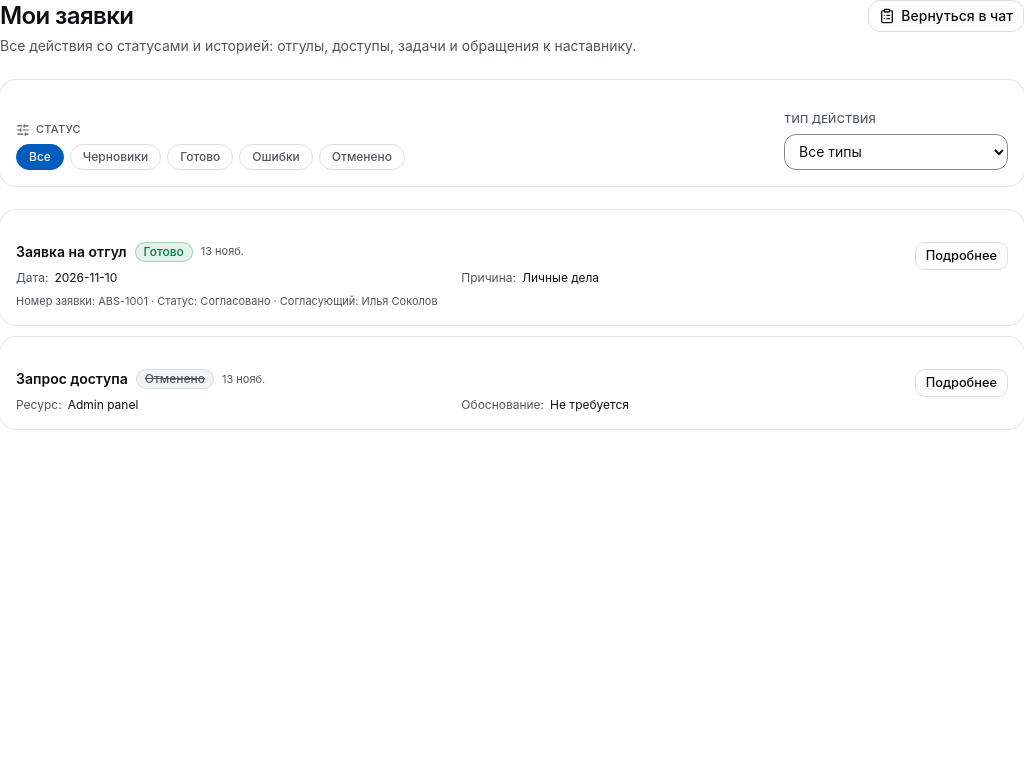
страница заявок › открывает детали с историей статусов
expect the heading "Заявка на отгул" is shown: met, box x1=16 y1=242 x2=127 y2=262
Click the button "Подробнее" in the row of "Заявка на отгул".
click(961, 256)  # box x1=915 y1=242 x2=1008 y2=270
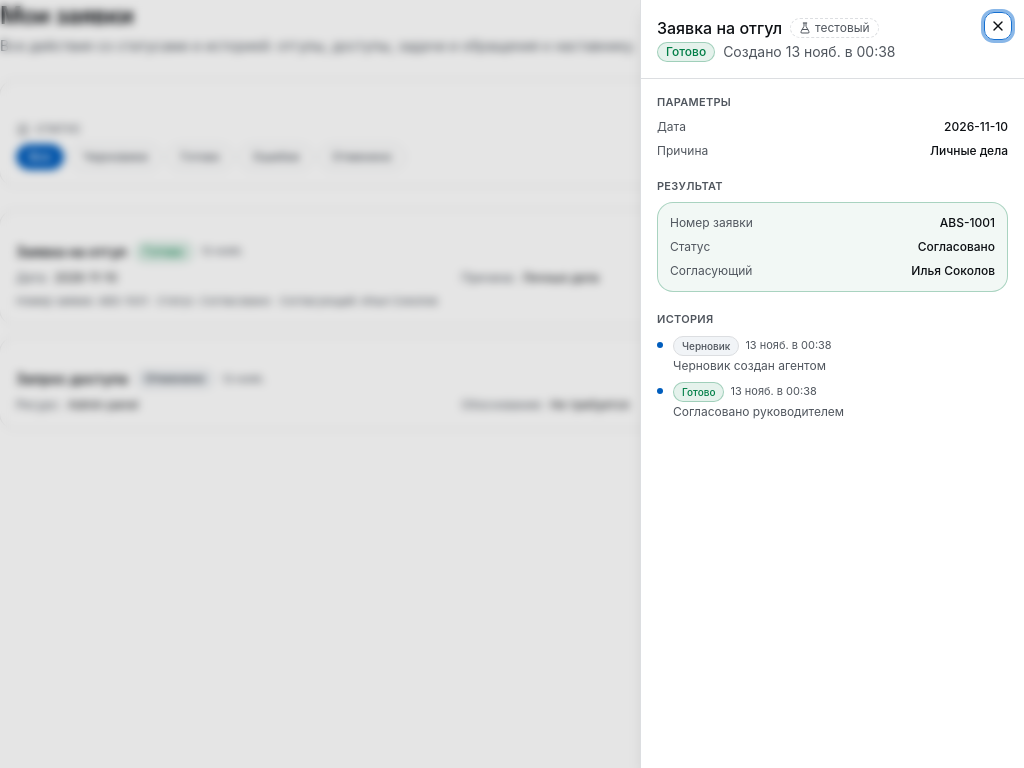
expect the heading "Параметры" is shown: met, box x1=657 y1=95 x2=731 y2=109
expect the text "ABS-1001" is shown: met, box x1=940 y1=215 x2=995 y2=231
expect the heading "История" is shown: met, box x1=657 y1=312 x2=713 y2=326
